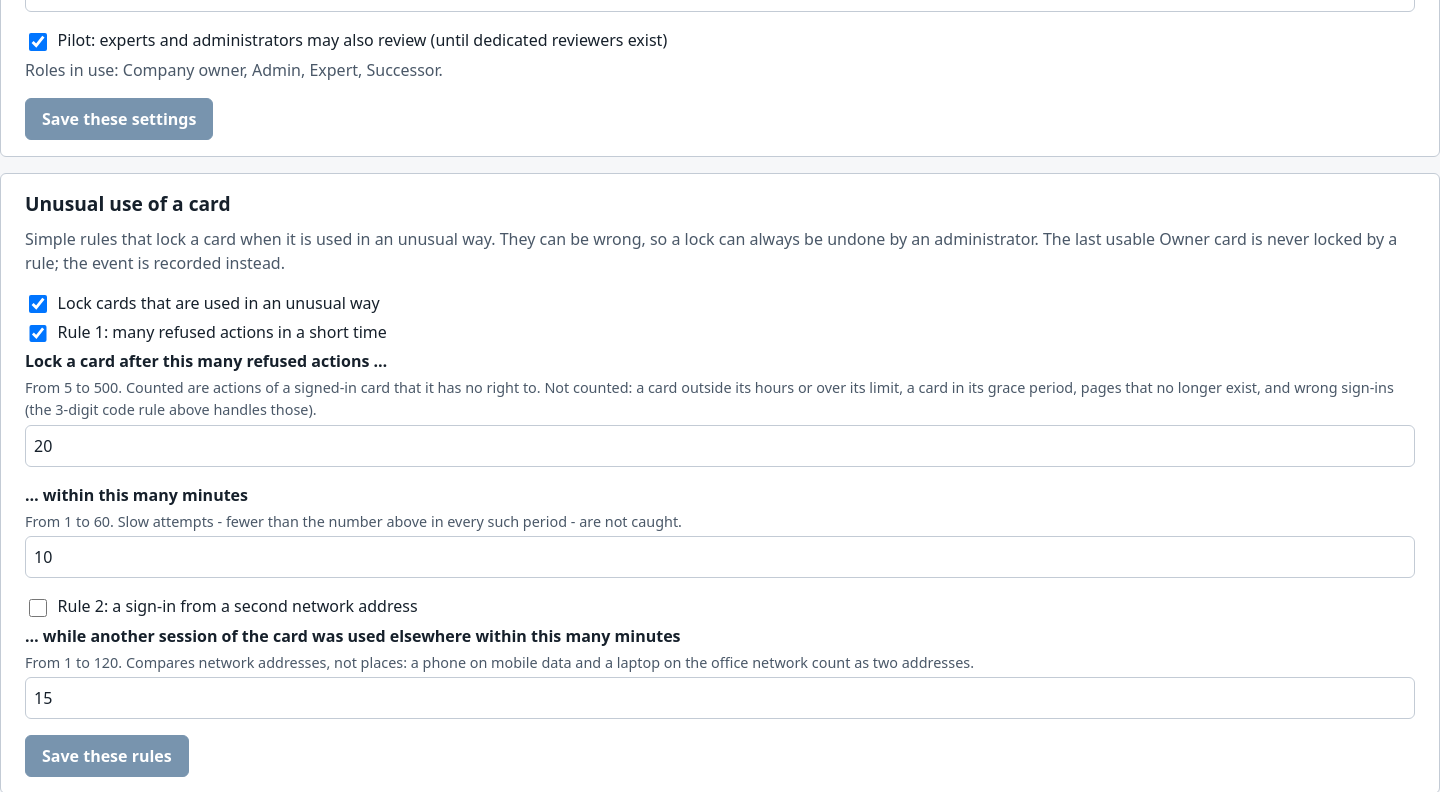
Test case: settings: unusual use of a card › shows the rules, says what the second-address rule compares, and sends only what was changed
The image size is (1440, 792).
(page scrolled)
Expected: the heading "Unusual use of a card" is shown, [25,190,231,217]
Expected: the text "The last usable Owner card is never locked by a rule" is shown, [25,228,1397,274]
Replace the text in the number field labelled "Lock a card after this many refused actions …" with "8": (720, 446) [25,424,1415,466]
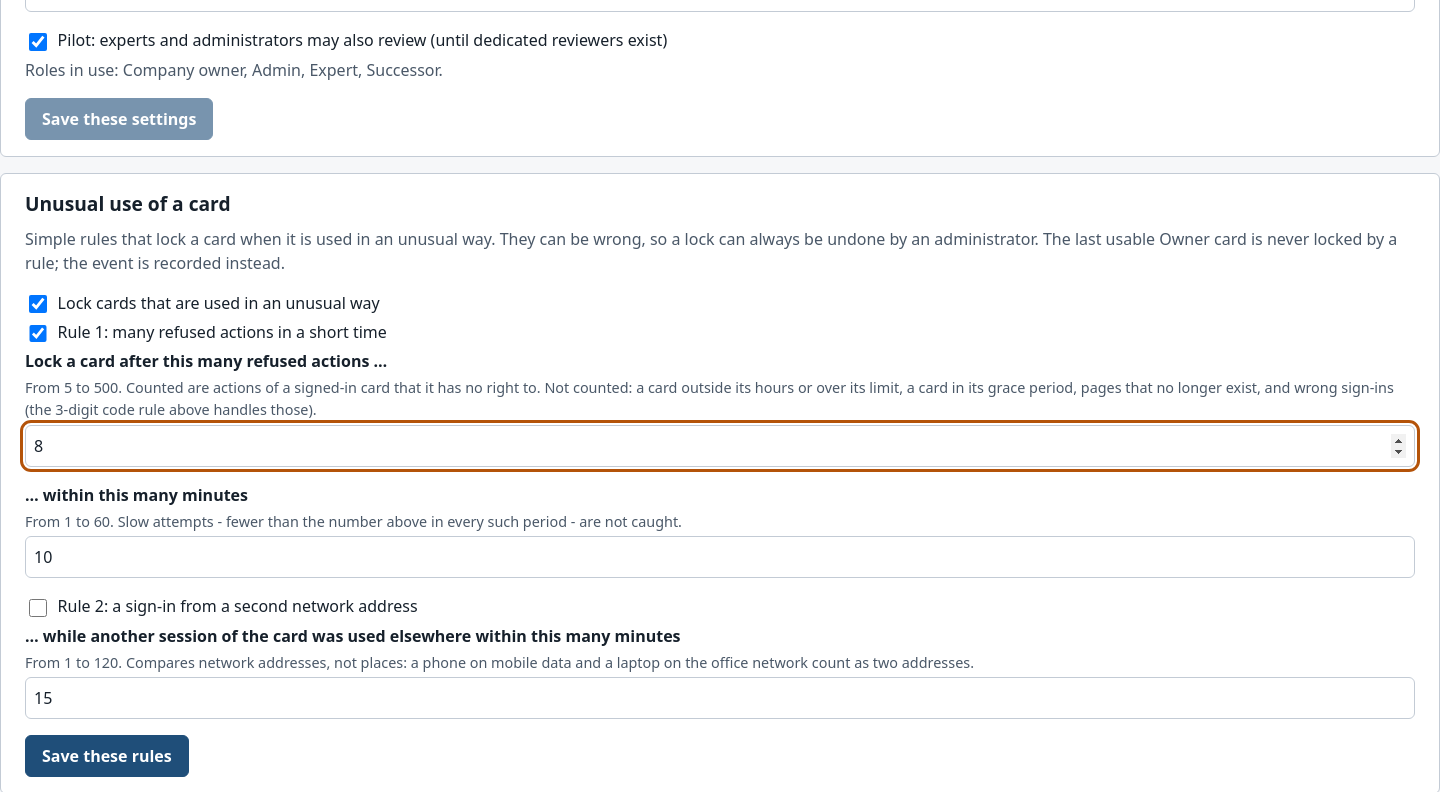
Click the button "Save these rules": (107, 756) [25,735,189,777]
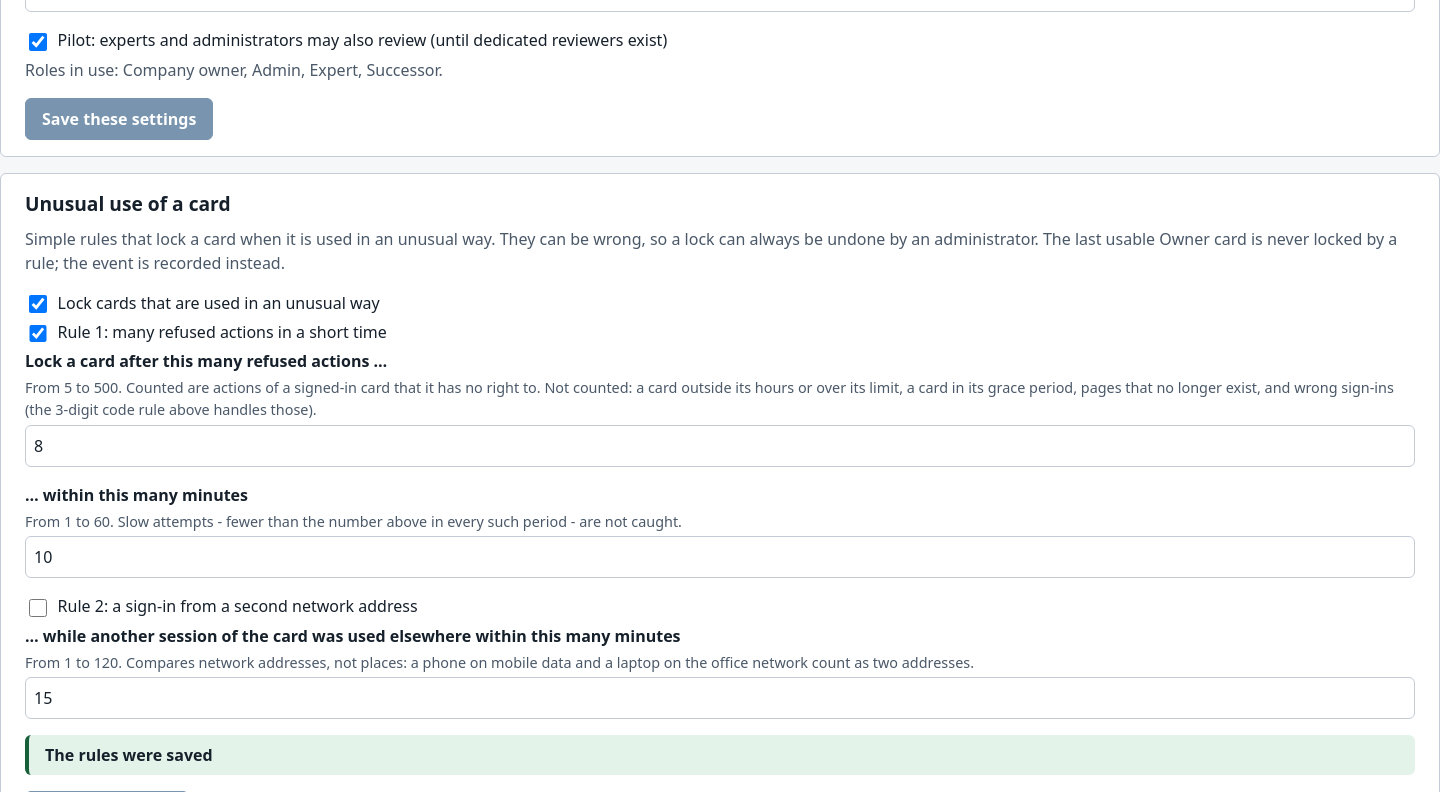
Expected: the text "The rules were saved" is shown, [45,744,213,766]
